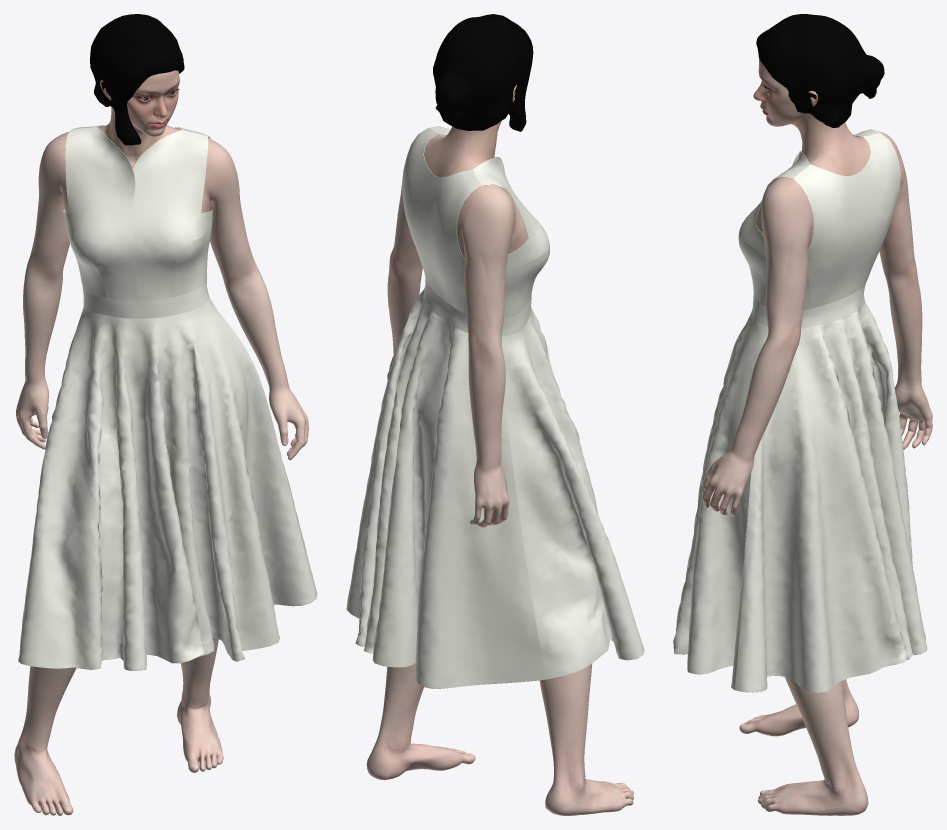
The model's file is Custom_View_6__FV2_05.obj.
3 views of the same model, side by side, from view 1: azimuth 30°, elevation 25°; view 2: azimuth 150°, elevation 25°; view 3: azimuth 270°, elevation 25° (orthographic). The views are drawn at different scales.
Bounding box in the file's own units: 684 × 1724 × 530.
